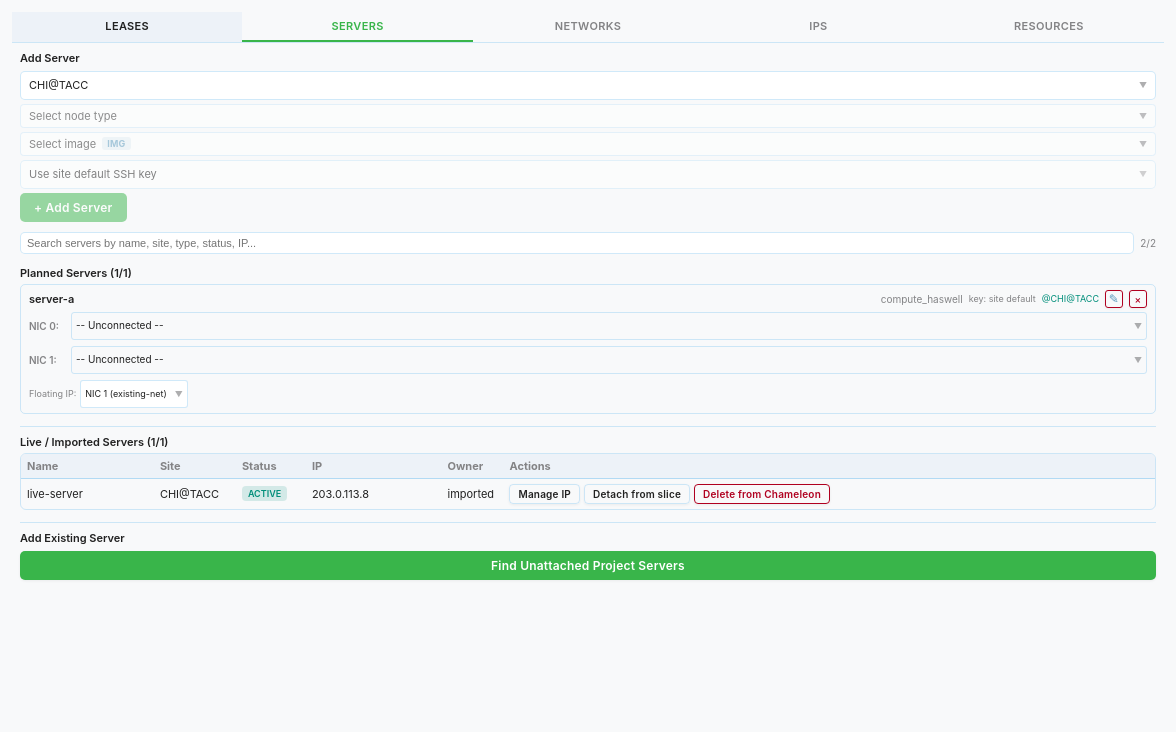
Scenario: ChameleonEditor › uses explicit action wording for draft, IP, and provider resource actions
Click the button "Networks" at x=588, y=27, box [473,12,703,42]
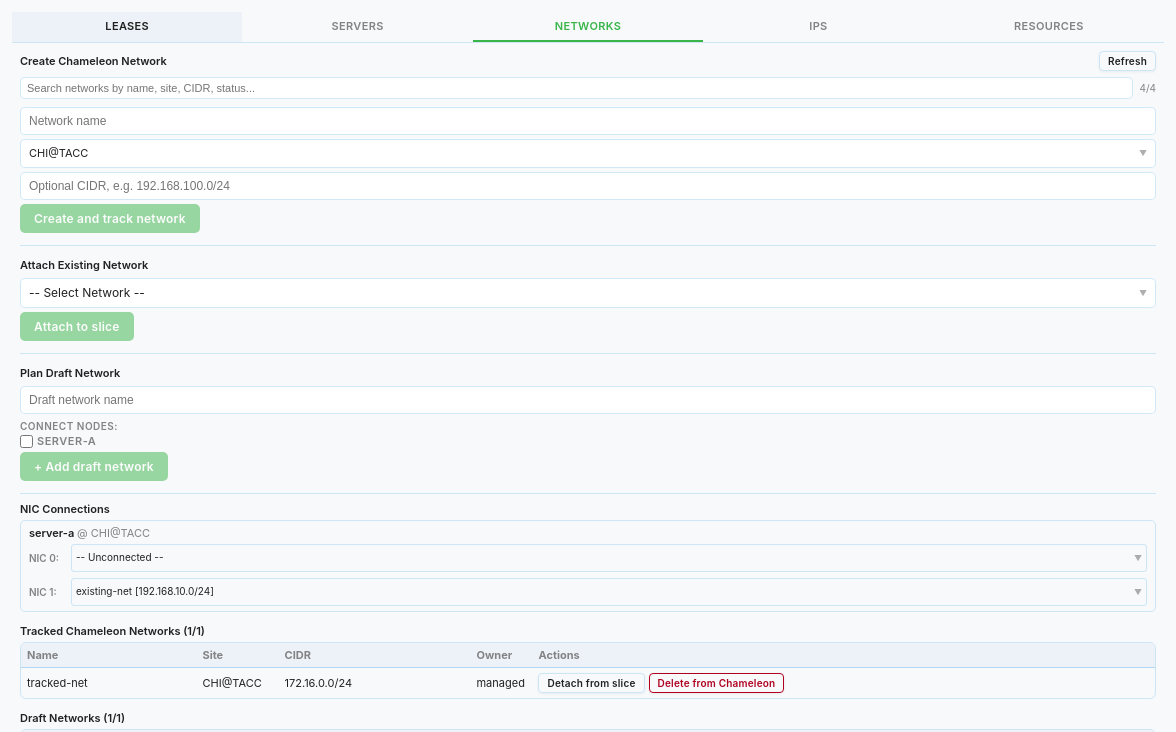
Click the button "IPs" at x=818, y=27, box [703,12,934,42]
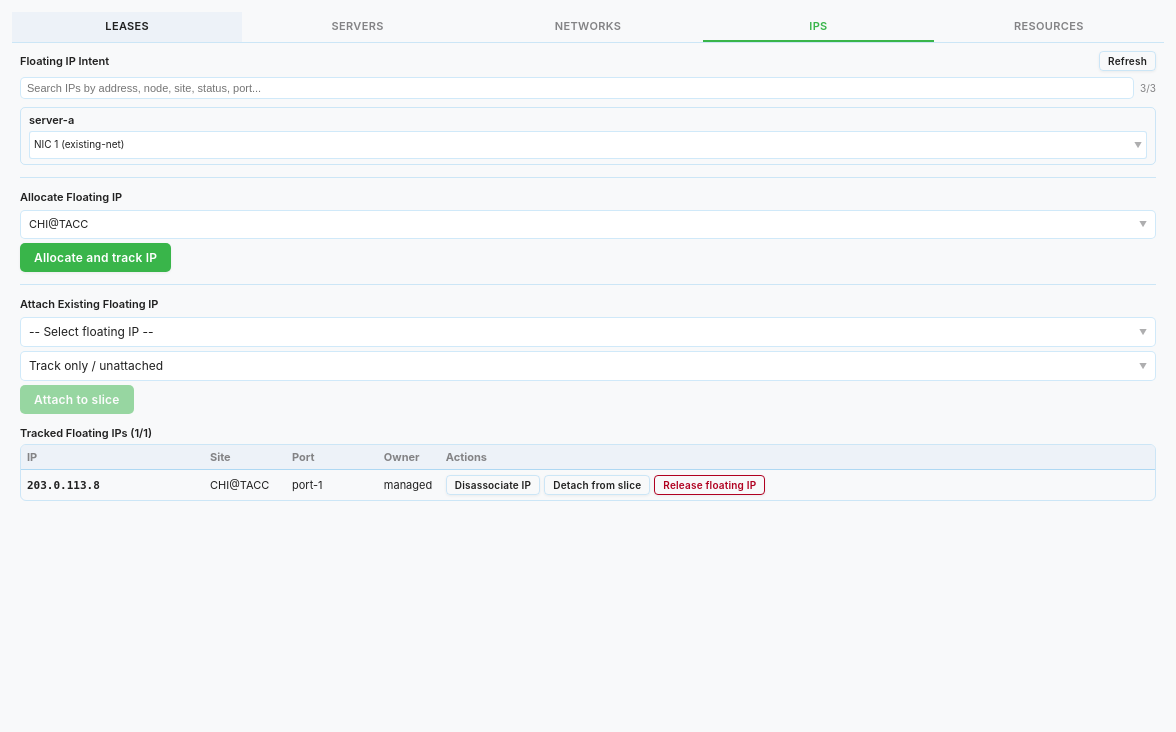
Expected: the text "203.0.113.8" is shown, [27,479,100,492]
Expected: the button "Disassociate IP" is shown, [446,475,540,495]
Expected: the button "Detach from slice" is shown, [544,475,650,495]
Click the button "Resources" at x=1049, y=27, box [934,12,1164,42]
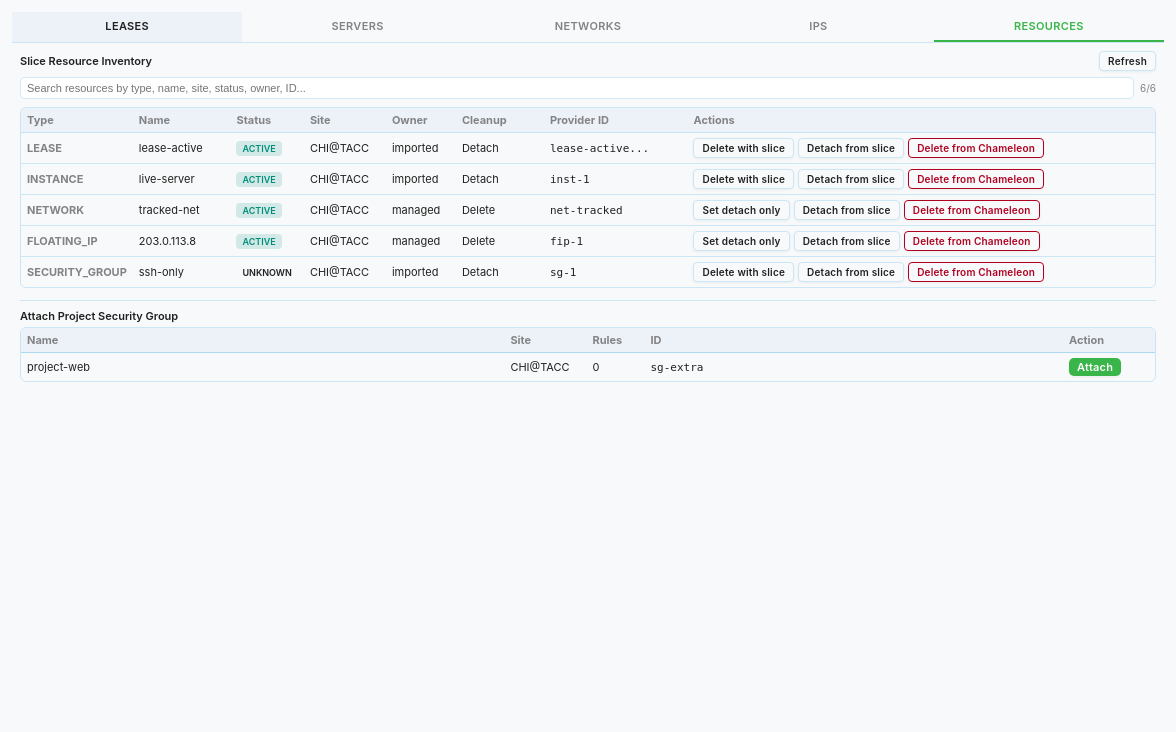
Expected: the button "Detach from slice" in the row of "lease-active..." is shown, [798,138,904,158]
Expected: the button "Delete from Chameleon" in the row of "lease-active..." is shown, [908,138,1044,158]
